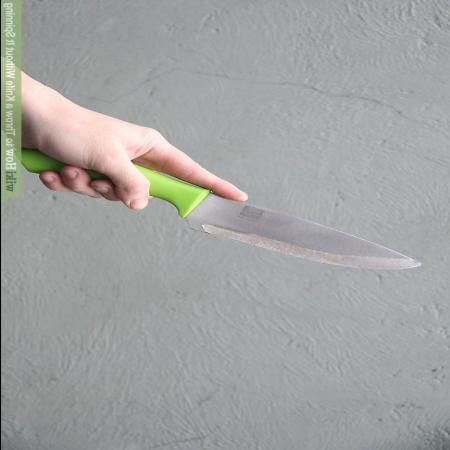long weapon: (65, 155, 431, 281)
